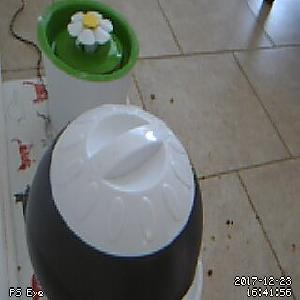fountain: (36, 1, 141, 82)
